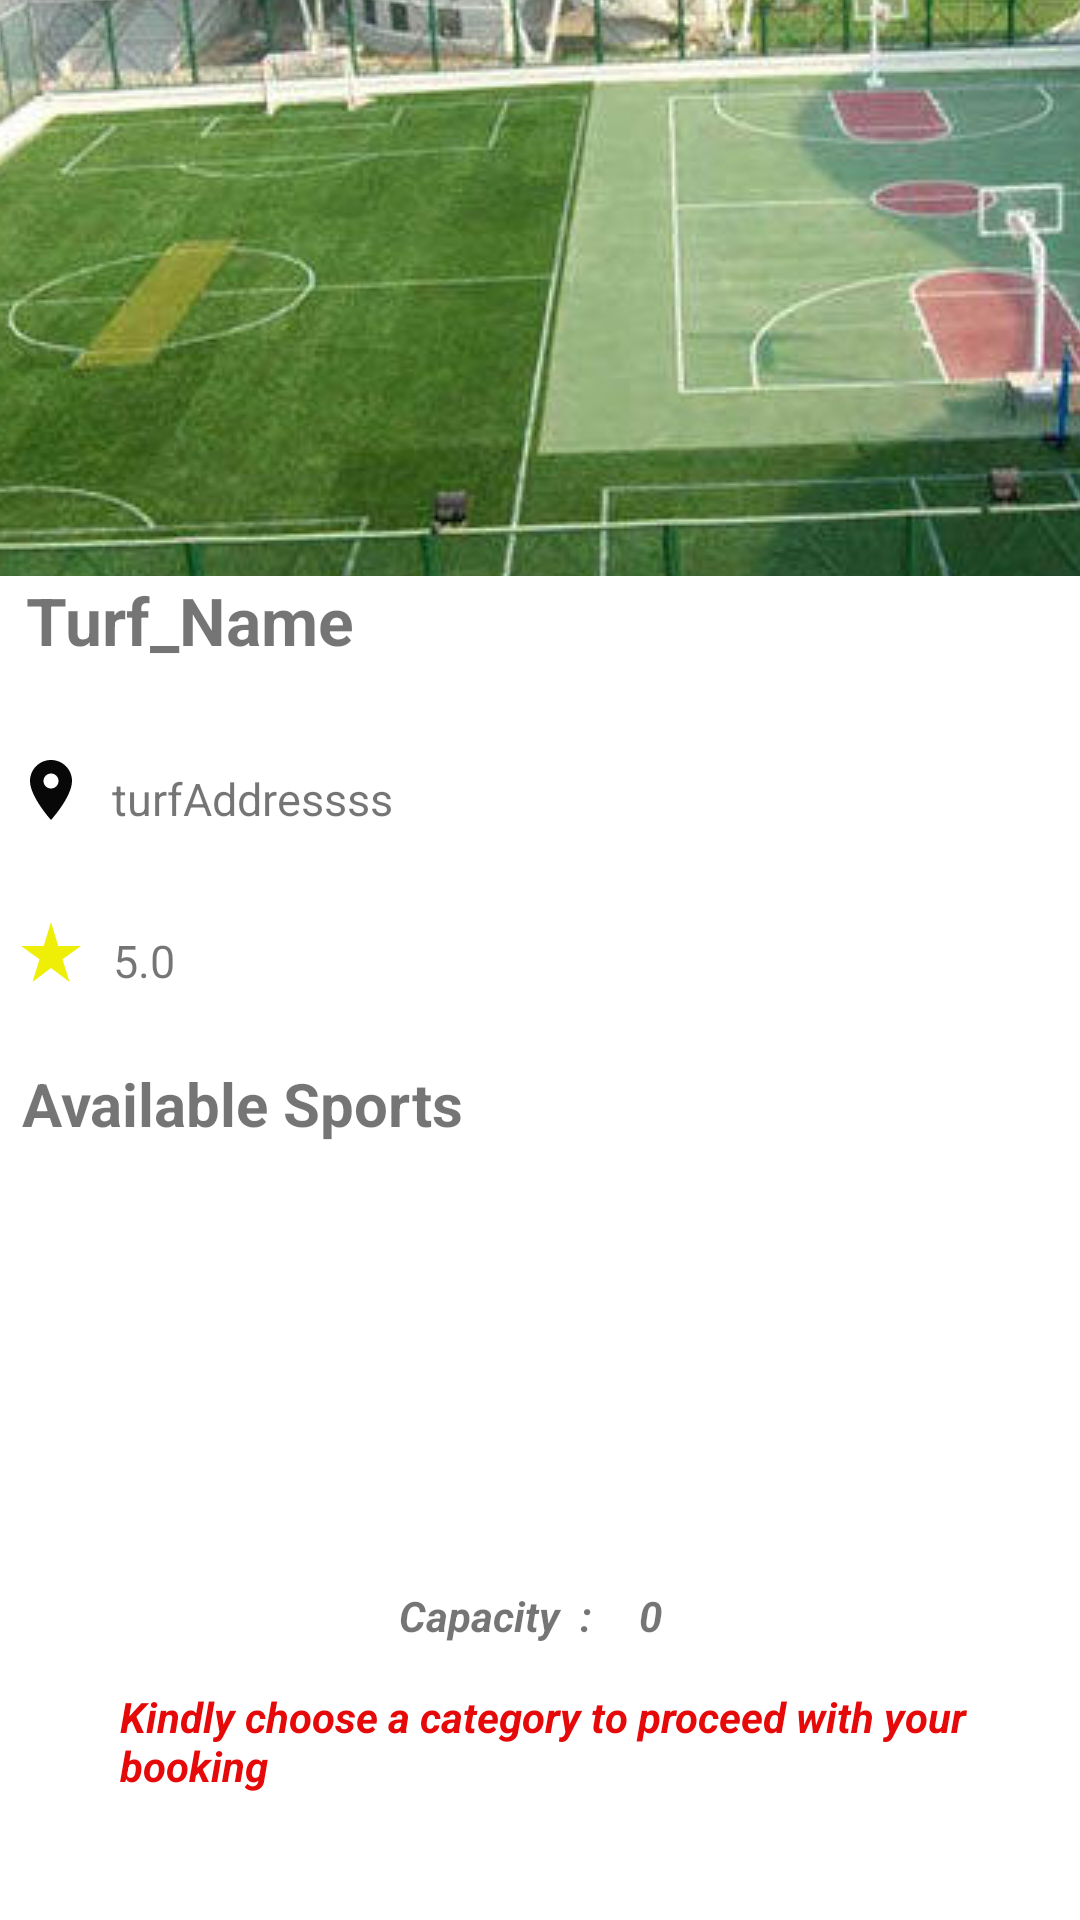

Icon bounding boxes for this 1080w x 1920h phone screenshot, format bbox(x1, y1, x2, y2):
location: bbox(30, 760, 72, 820)
star rate: bbox(21, 922, 81, 982)
